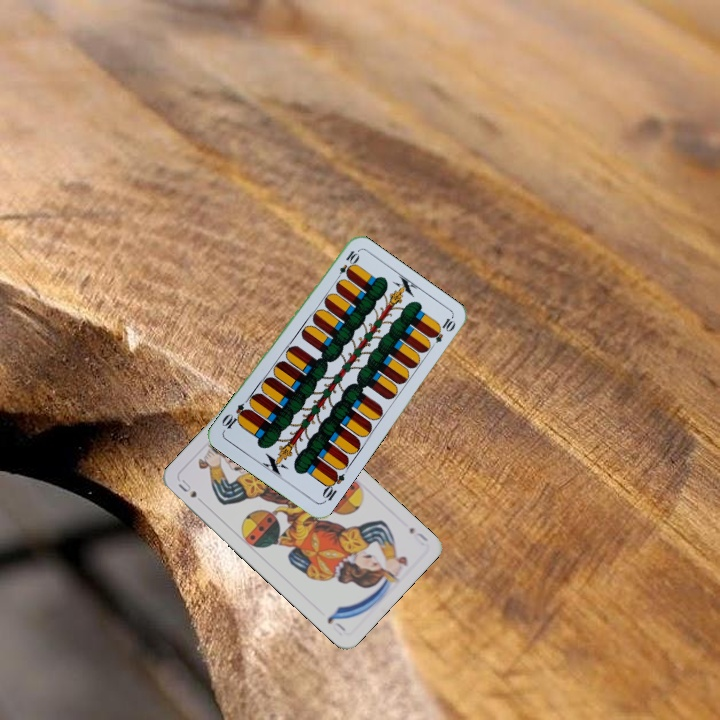E10: (318, 467, 347, 506), (332, 246, 361, 284)
SU: (405, 523, 431, 548), (174, 475, 199, 500)
